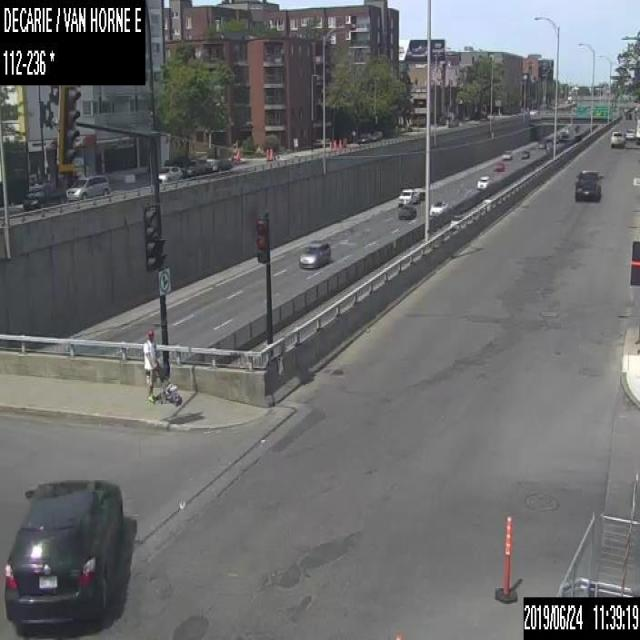construction: (494, 513, 520, 603), (268, 148, 273, 160), (332, 138, 336, 148), (265, 147, 268, 160), (236, 148, 239, 160), (338, 138, 341, 149), (328, 140, 331, 148)
pedestrian: (141, 328, 182, 403)
vehicle: (1, 477, 124, 635), (65, 174, 108, 202), (22, 185, 60, 209), (298, 238, 329, 266), (574, 168, 601, 200), (397, 185, 425, 203), (158, 165, 181, 182), (429, 199, 448, 216), (610, 129, 625, 148), (186, 159, 203, 175), (396, 204, 416, 217), (476, 173, 489, 190), (204, 157, 218, 170), (356, 132, 370, 142), (492, 160, 503, 171), (371, 129, 382, 140), (624, 127, 634, 139), (501, 149, 511, 159), (519, 148, 528, 159), (537, 136, 545, 148)
